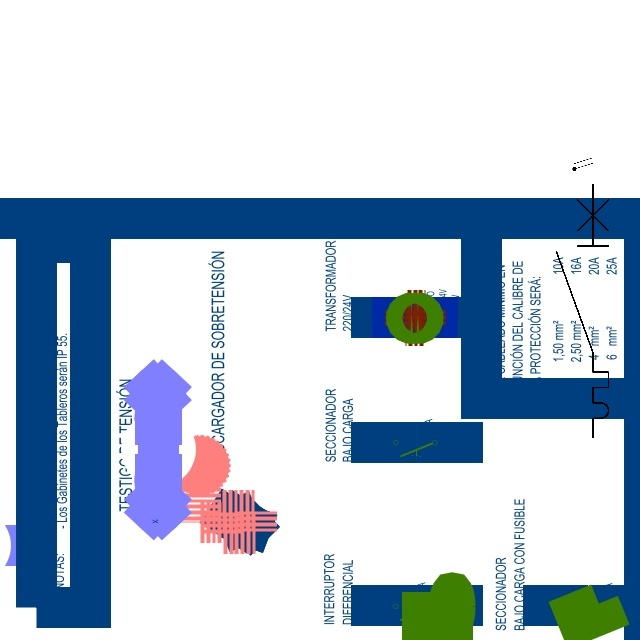interruptor_termomagnetico: (550, 178, 615, 444)
